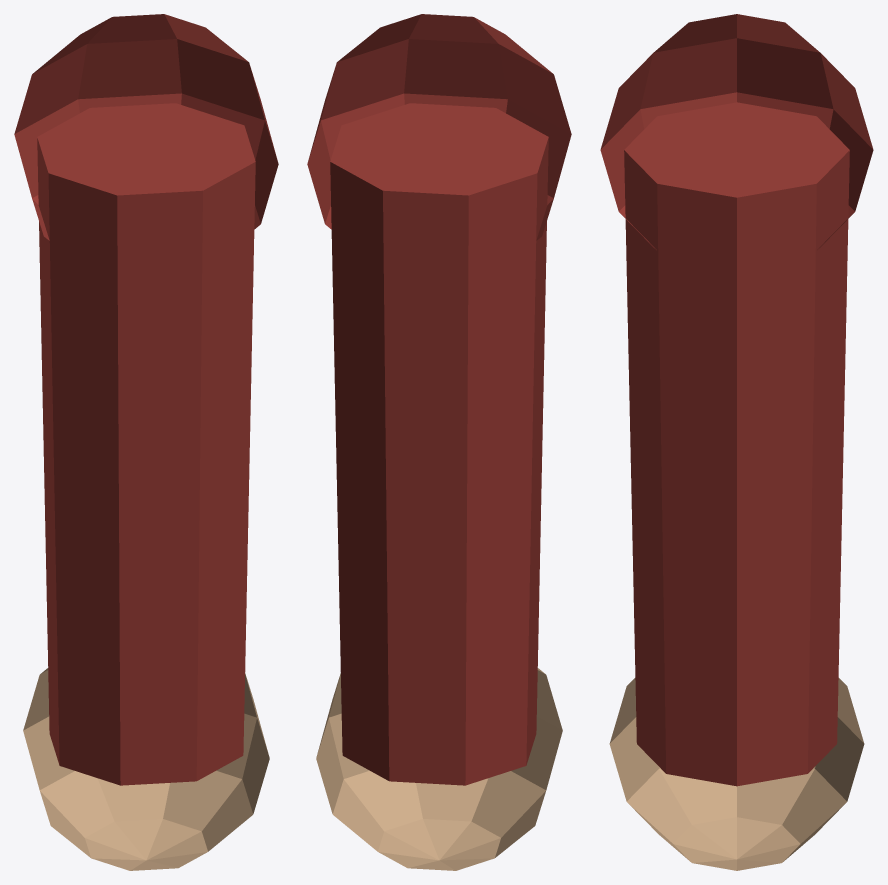
Rendered from arm.glb.
3 renders of one model, left to right at view 1: azimuth 30°, elevation 25°; view 2: azimuth 150°, elevation 25°; view 3: azimuth 270°, elevation 25°, orthographic.
Parts seen in each view (by area): view 1: arm; view 2: arm; view 3: arm.
Part boxes in pixels (x1,y1,x2,y2): arm: (14,14,278,870); arm: (307,14,571,870); arm: (600,14,873,870).
Size of the model in its own units: 0.15 by 0.505 by 0.15.
